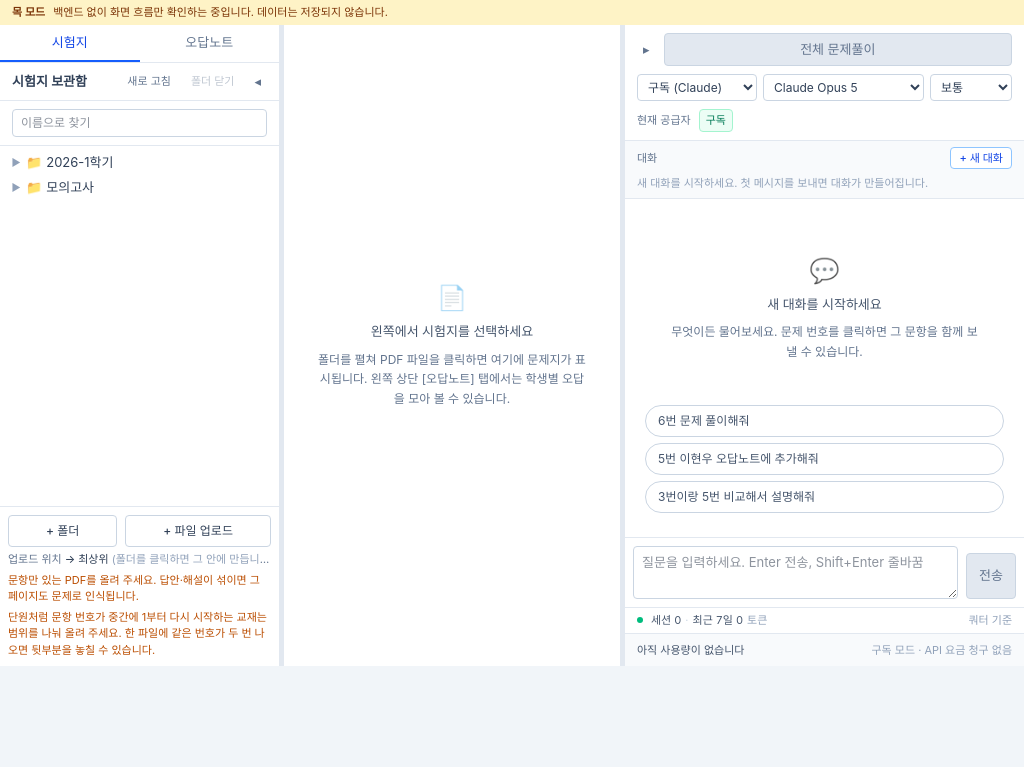
Test: 워크스페이스 화면 (목 모드) › 파일을 고르지 않았으면 전체 예상 금액은 생략하고 문항당만 보여준다
Check: the text "2026-1학기" is shown, box [46,154,114,170]
Select "API 키 (Claude)" in the dropdown named "공급자 선택" at (697, 88), box [637,74,757,101]
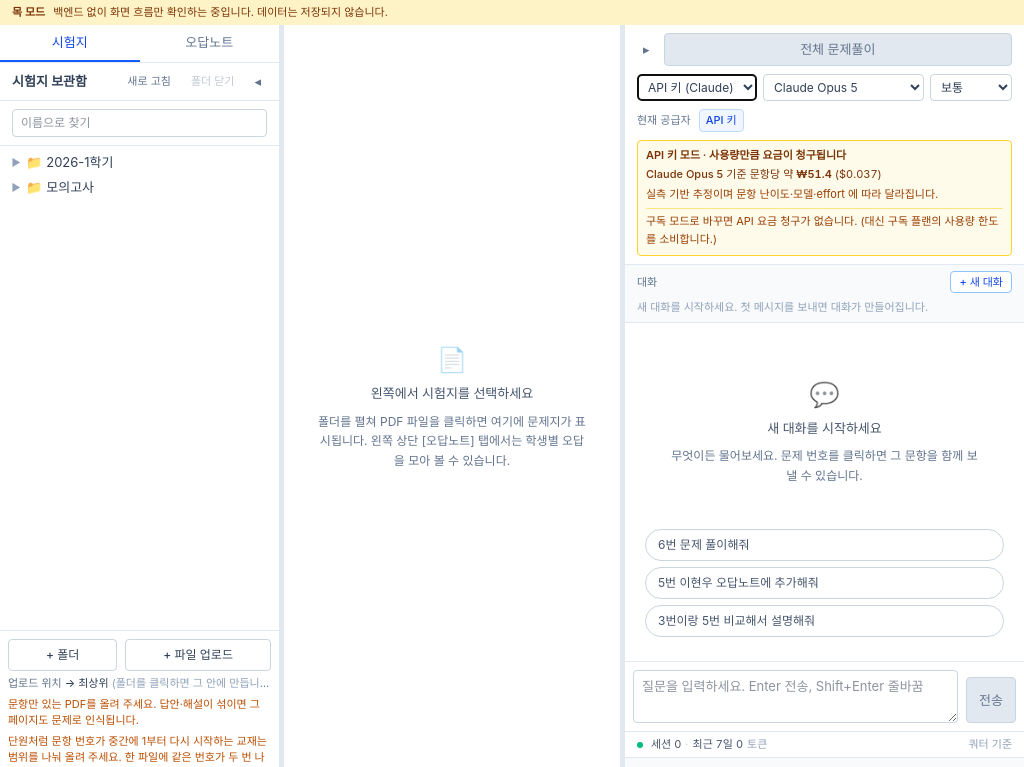
Check: the element that starts with "API 키 모드 · 사용량만큼 요금이 청구됩니다" shows "문항당 약", box [723,167,793,181]
